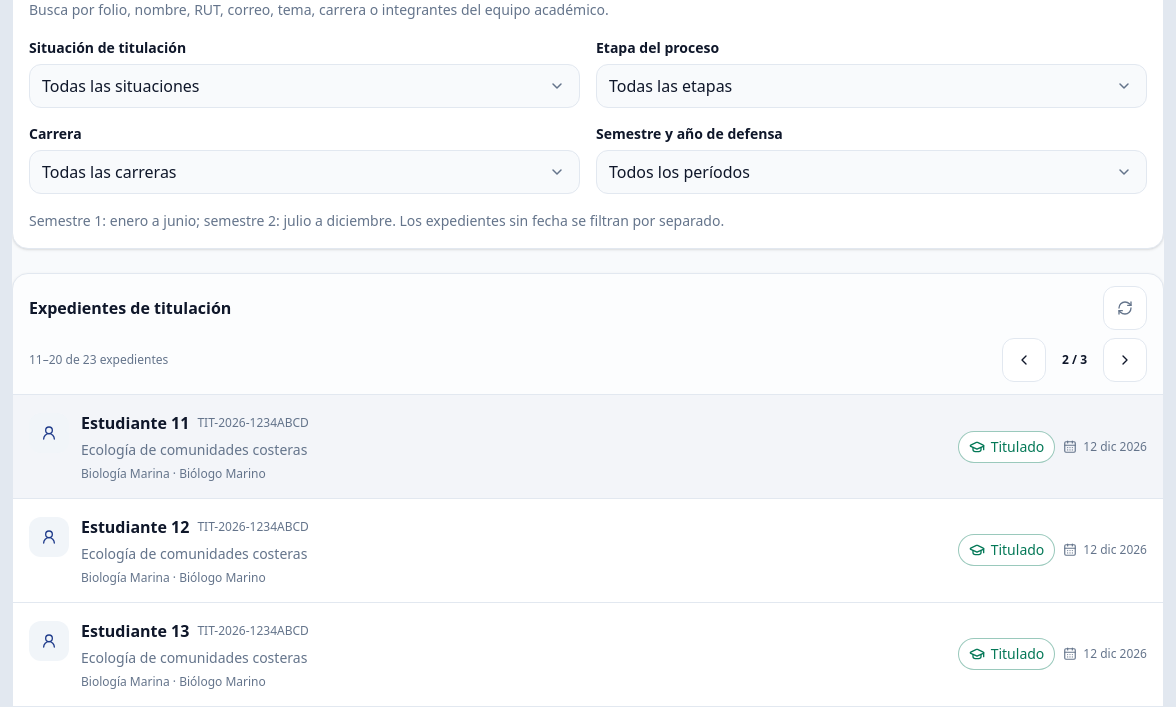
Test: TitulationWorkspace › keeps the linked page and shows pagination above the current records
This screenshot has width=1176, height=707.
(page scrolled)
Expected: the text "11–20 de 23 expedientes" is shown, [29,351,168,368]
Click the button named "Página siguiente" at (1125, 360), box [1103,338,1147,382]
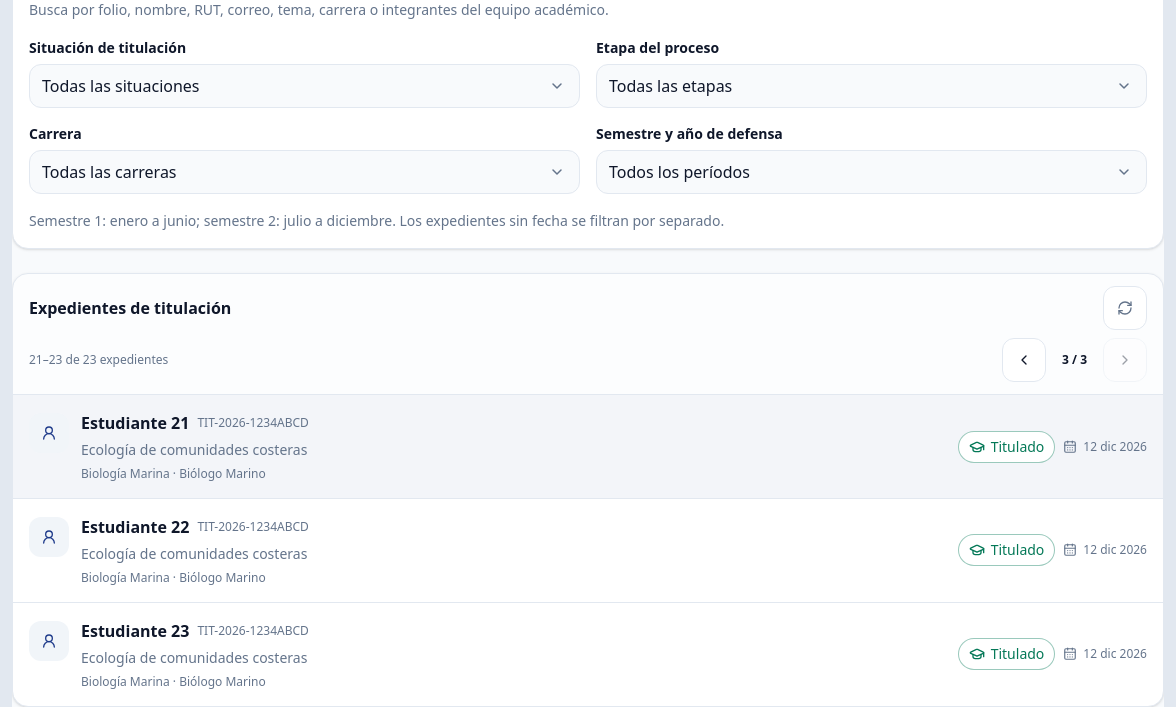
Now the text "21–23 de 23 expedientes" is shown, box [29,351,168,368]
